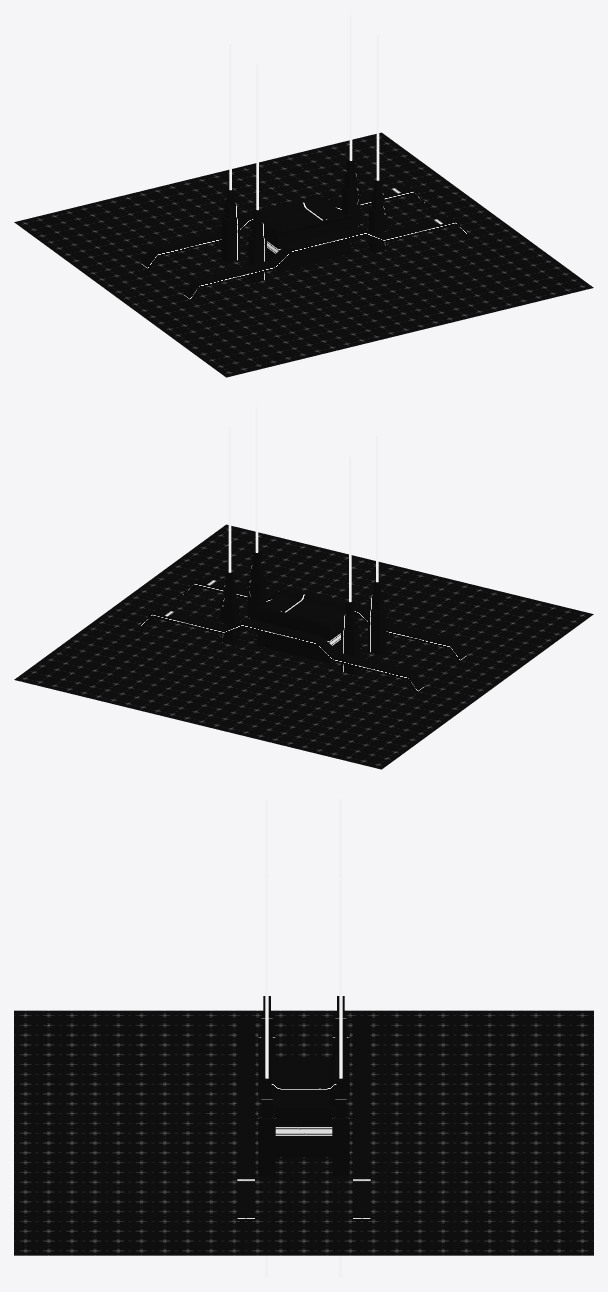
The model's file is TronStadiumUltimo.glb.
The picture shows the model from 3 angles, top to bottom: view 1: azimuth 30°, elevation 25°; view 2: azimuth 150°, elevation 25°; view 3: azimuth 270°, elevation 25°; orthographic projection. The views are drawn at different scales.
Visible parts, largest first — view 1: Plane, Cube.001, Cube; view 2: Plane, Cube.001, Cube; view 3: Plane, Cube.001, Cube.
Part boxes in pixels (x1,y1,x2,y2): Plane: [14, 132, 593, 377]; Cube.001: [141, 14, 466, 301]; Cube: [262, 197, 351, 271]; Plane: [14, 524, 593, 769]; Cube.001: [141, 406, 466, 693]; Cube: [256, 589, 345, 663]; Plane: [14, 1010, 593, 1255]; Cube.001: [237, 798, 370, 1277]; Cube: [270, 1054, 337, 1157].
Size of the model in its own units: 20.44 by 15.47 by 20.44.
Materials: 3 (2 with a texture image).
